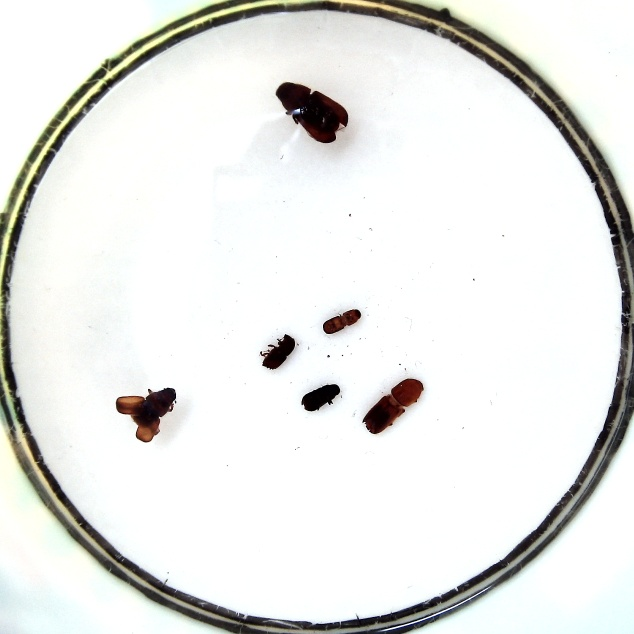acuminatus: (322, 306, 362, 334)
armandi: (300, 382, 341, 411)
boerner: (362, 376, 423, 435)
leconte: (274, 80, 350, 144), (116, 386, 177, 443)
linnaeus: (259, 333, 296, 370)
